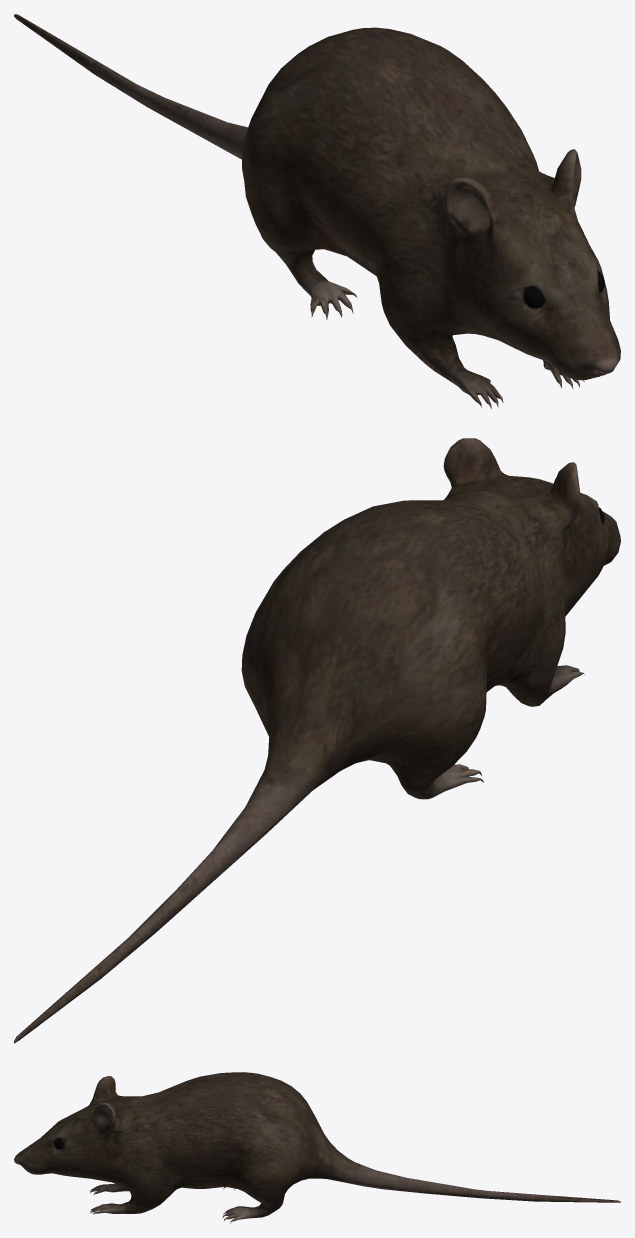
File: rat.glb
3 views of the same model, one above another, from view 1: azimuth 30°, elevation 25°; view 2: azimuth 150°, elevation 25°; view 3: azimuth 270°, elevation 25° (orthographic). The views are drawn at different scales.
Parts seen in each view (by area): view 1: street_rat; view 2: street_rat; view 3: street_rat.
Part boxes in pixels (box(x1,y1,x2,y2)): street_rat: box(14, 14, 620, 408); street_rat: box(14, 438, 620, 1043); street_rat: box(14, 1072, 620, 1223).
Bounding box in the file's own units: 0.032 × 0.0338 × 0.1483.
Materials: 1 (1 with a texture image).
